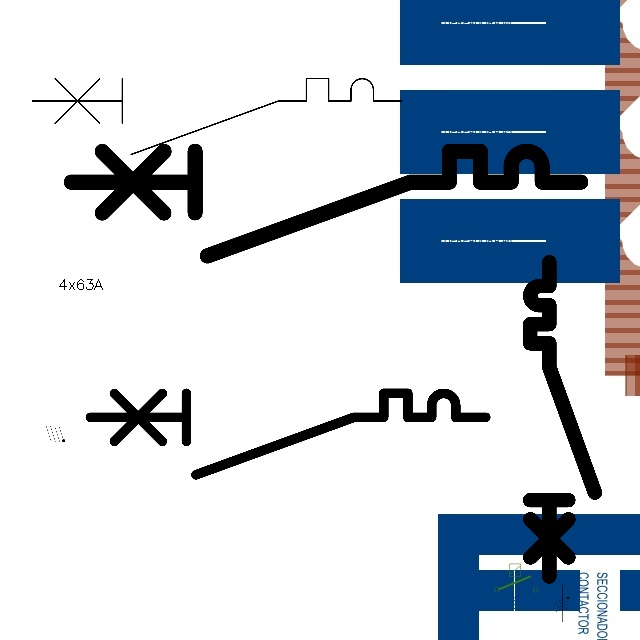interruptor_termomagnetico: (58, 138, 594, 269), (80, 383, 496, 485), (23, 69, 411, 164), (522, 254, 603, 585)
